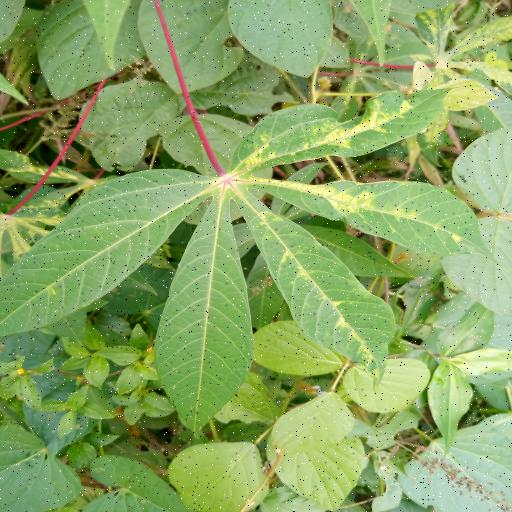Cassava_Mosaic: (0, 86, 498, 434)
